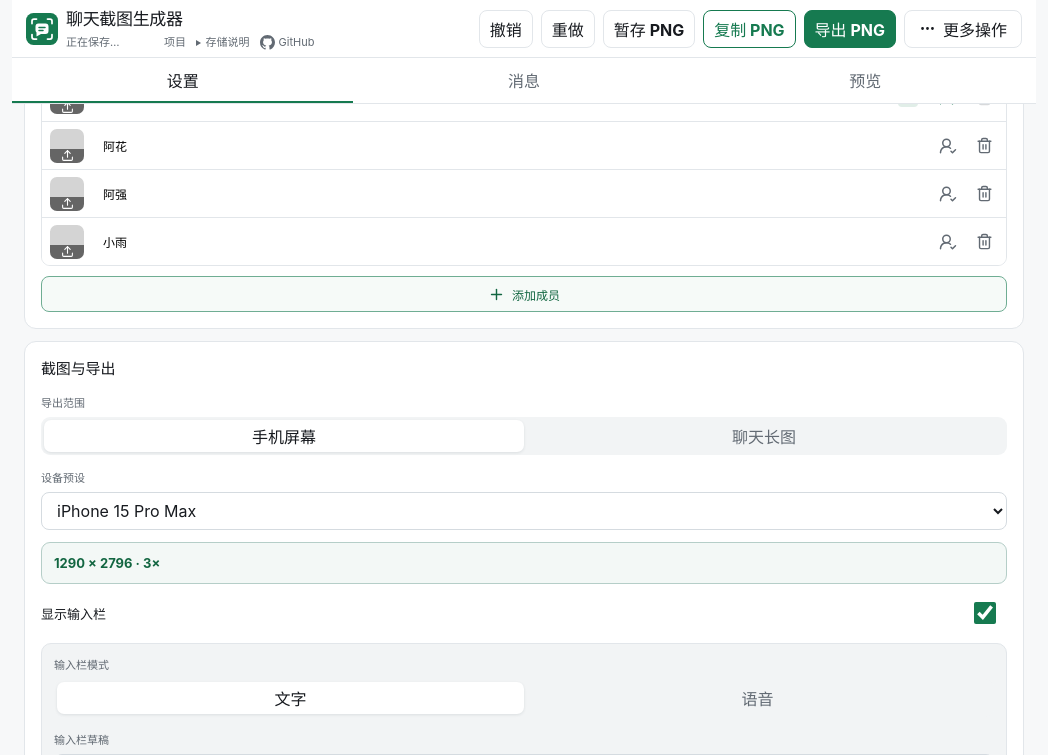
Test: App › disables export when the long-image range is reversed
(page scrolled)
Click the button "聊天长图".
click(764, 436)  # box [524,420,1004,452]
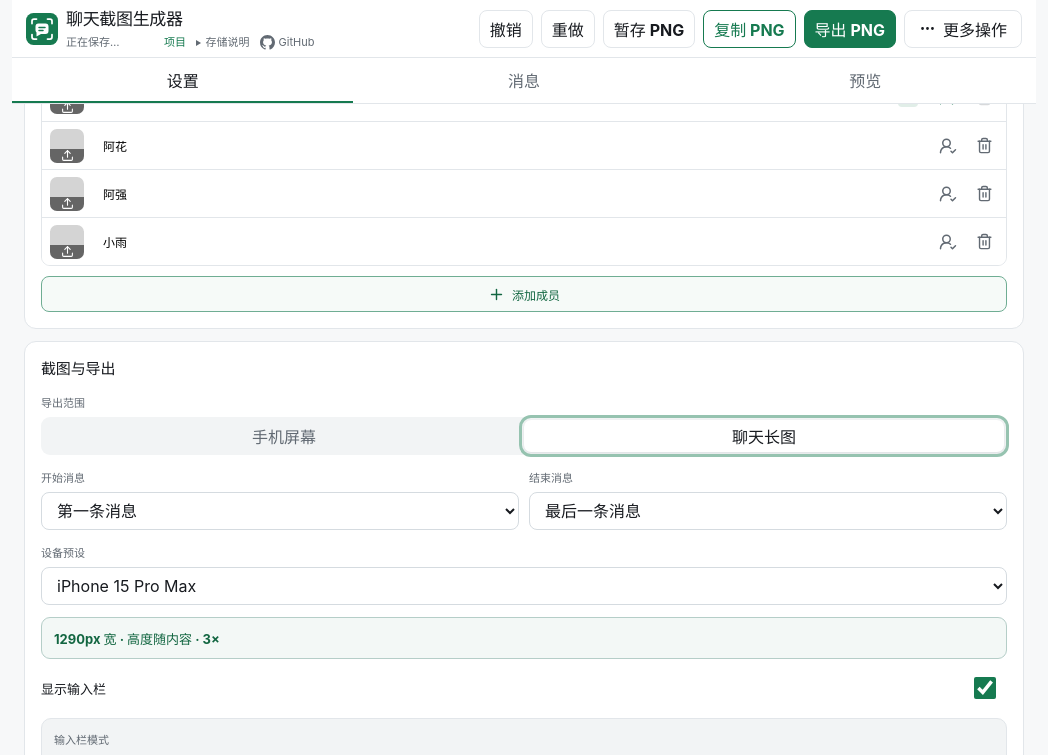
Select "4. 他一个月工资多少啊" in the dropdown labelled "开始消息" at (280, 511), box [41,492,519,530]
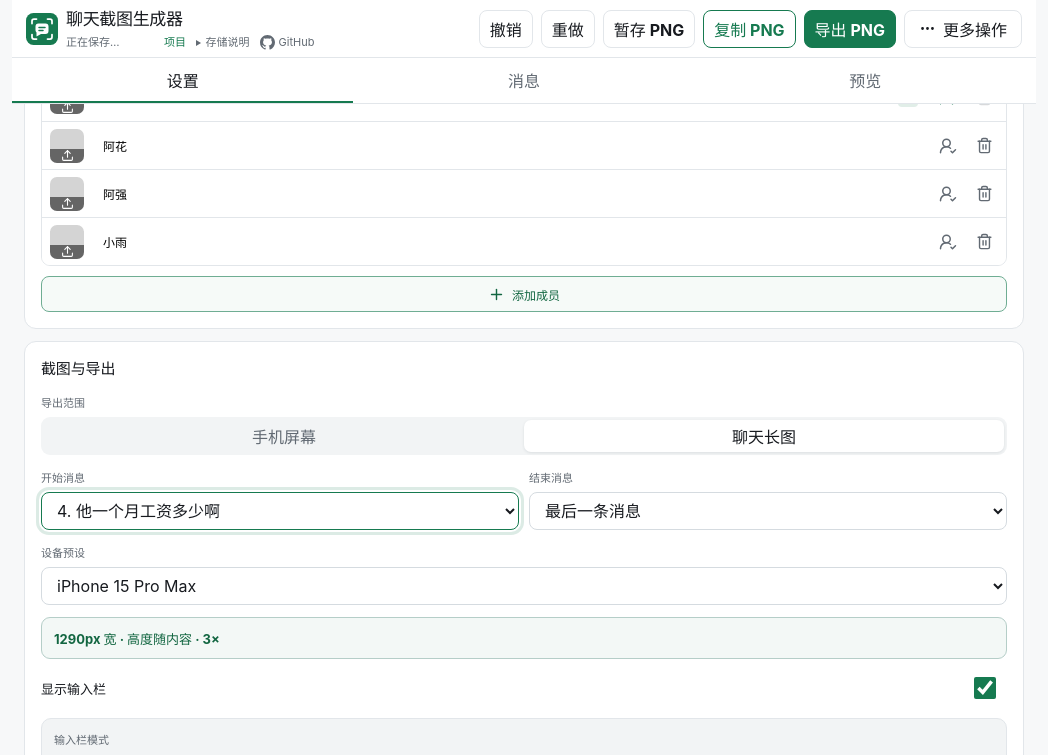
Select "2. 我老公让我全职带娃，每个月给我两万！！！" in the dropdown labelled "结束消息" at (768, 511), box [529,492,1007,530]
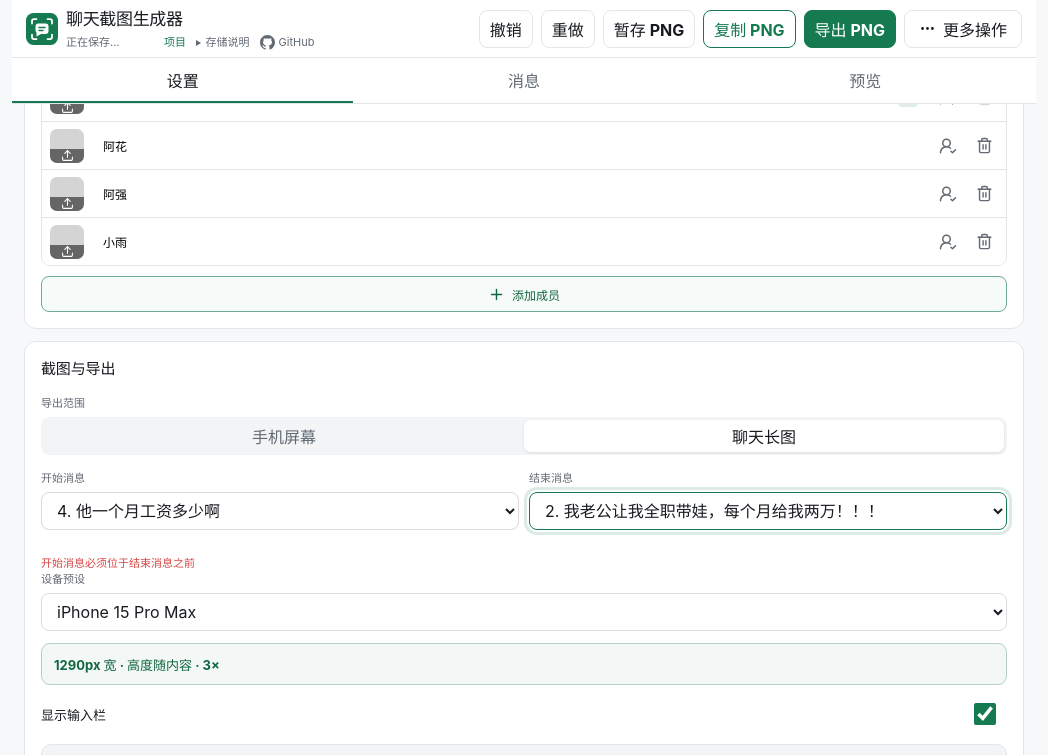
expect the button "导出 PNG" is disabled: met, box [804,10,896,48]
expect the message "开始消息必须位于结束消息之前" is shown: met, box [41,556,195,570]
